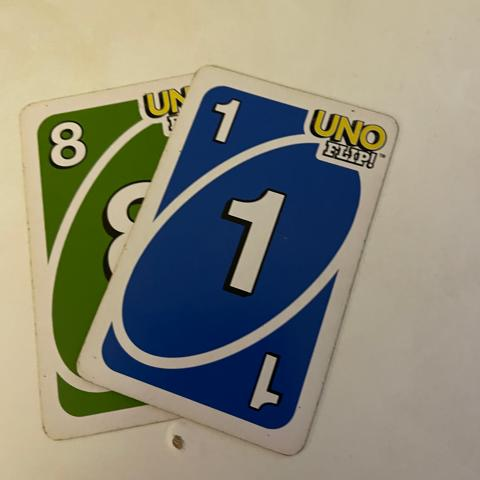lblue-1: (198, 77, 250, 166)
lgreen-8: (30, 109, 106, 182)
